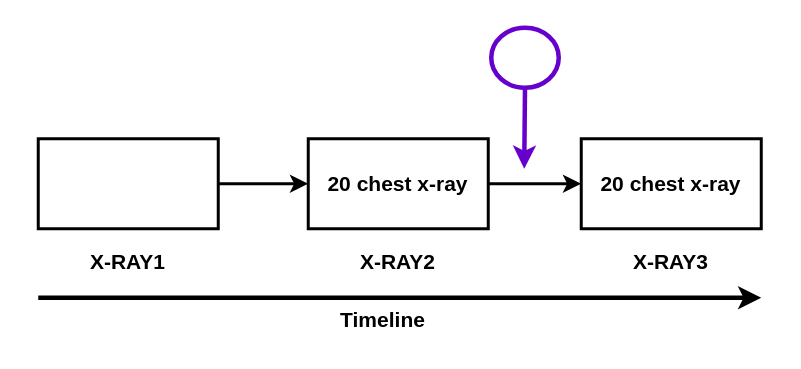
This 801x369 diagram has some shape labels left out. Each missing label, with the box of its shape:
15 chest x-ray: (36, 136, 219, 230)
ETI: (488, 25, 560, 89)
